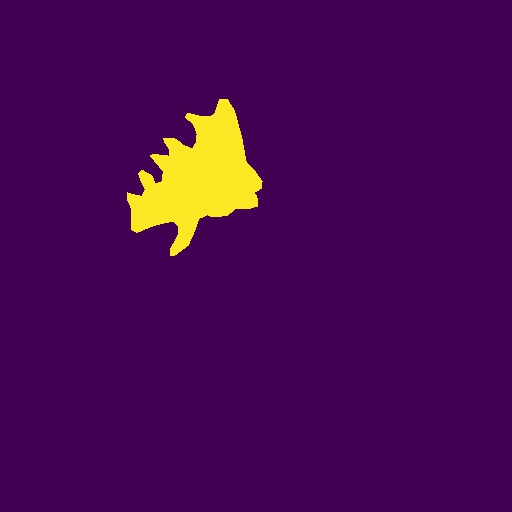Gliomia_tumour: (127, 99, 263, 256)
